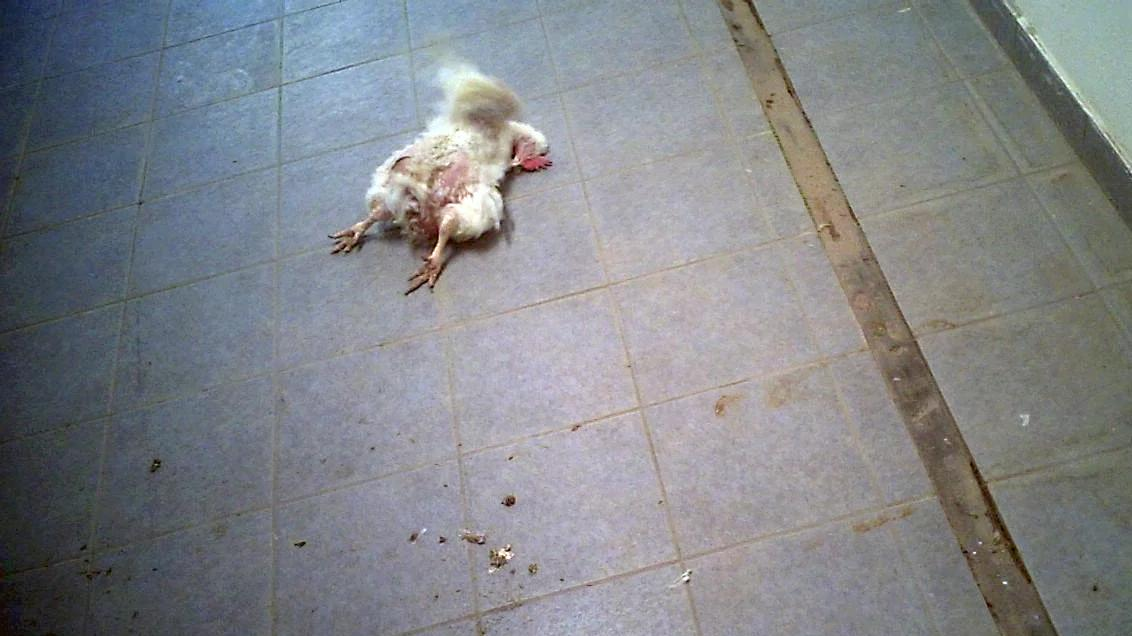AbNormal: (313, 59, 560, 307)
